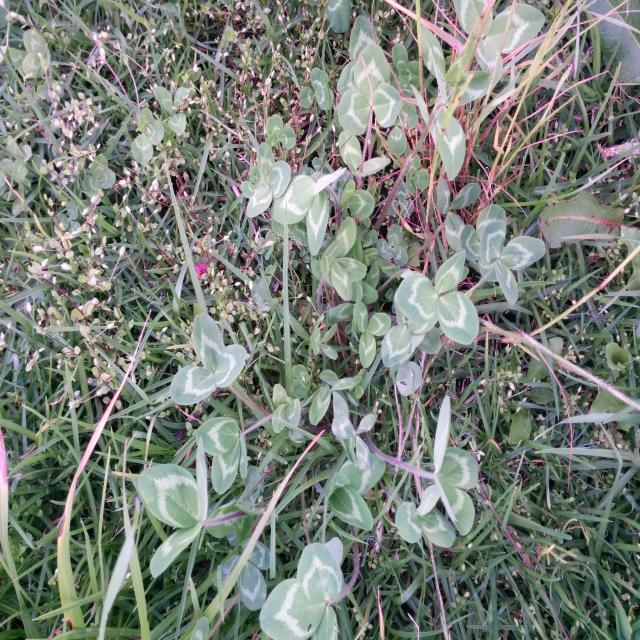Four Leaf Clover: (320, 217, 367, 301)
